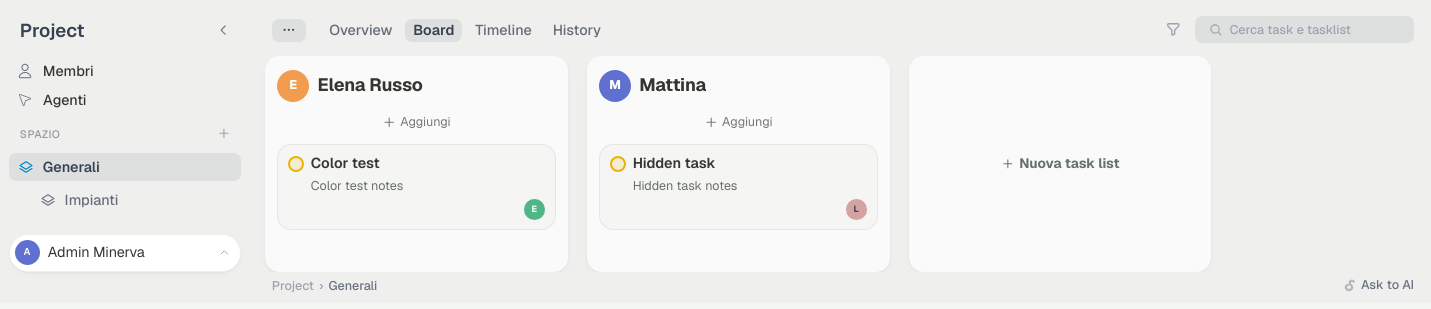
Test case: board shell › search hides non-matching task lists and tasks
Expected: the text "Color test" is shown, [311,154,380,172]
Expected: the text "Hidden task" is shown, [633,154,716,172]
Type "Color" into the search field labelled "Cerca task e tasklist" at (1316, 29), box [1230,22,1402,37]
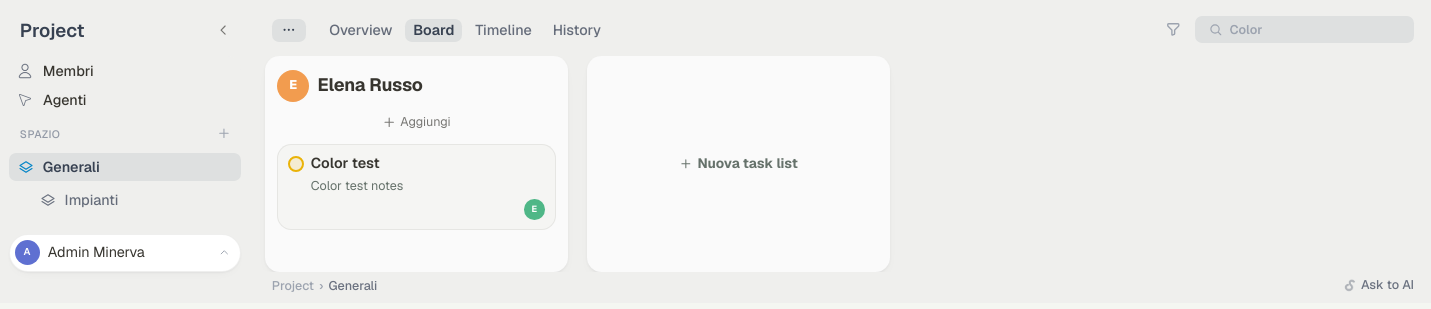
Expected: the text "Color test" is shown, [311,154,380,172]
Result: the button "Hidden task" is gone
